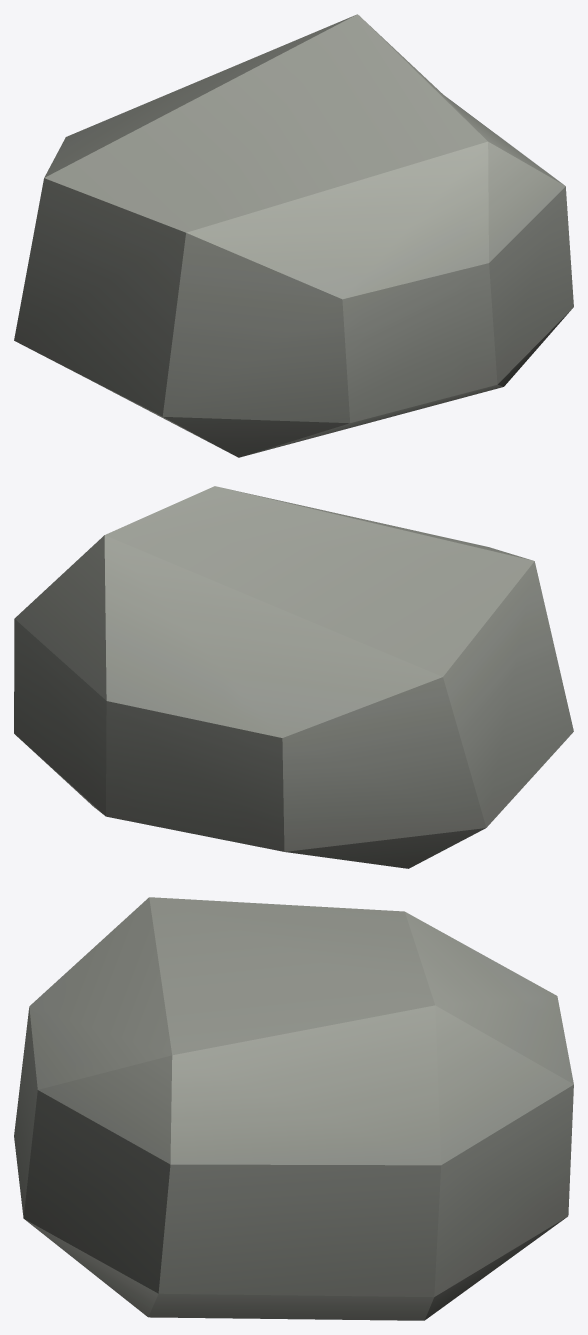
The model's file is Pebble_C.fbx.
3 renders of one model, top to bottom at view 1: azimuth 30°, elevation 25°; view 2: azimuth 150°, elevation 25°; view 3: azimuth 270°, elevation 25°, orthographic. The views are drawn at different scales.
Parts seen in each view (by area): view 1: Pebble_C; view 2: Pebble_C; view 3: Pebble_C.
Boxes of the visible parts, x1,y1,x2,y2 form: Pebble_C: (14, 14, 573, 457); Pebble_C: (14, 486, 573, 868); Pebble_C: (14, 897, 573, 1320).
Size of the model in its own units: 9.31 by 9.09 by 5.49.
Materials: 1 (1 with a texture image).
